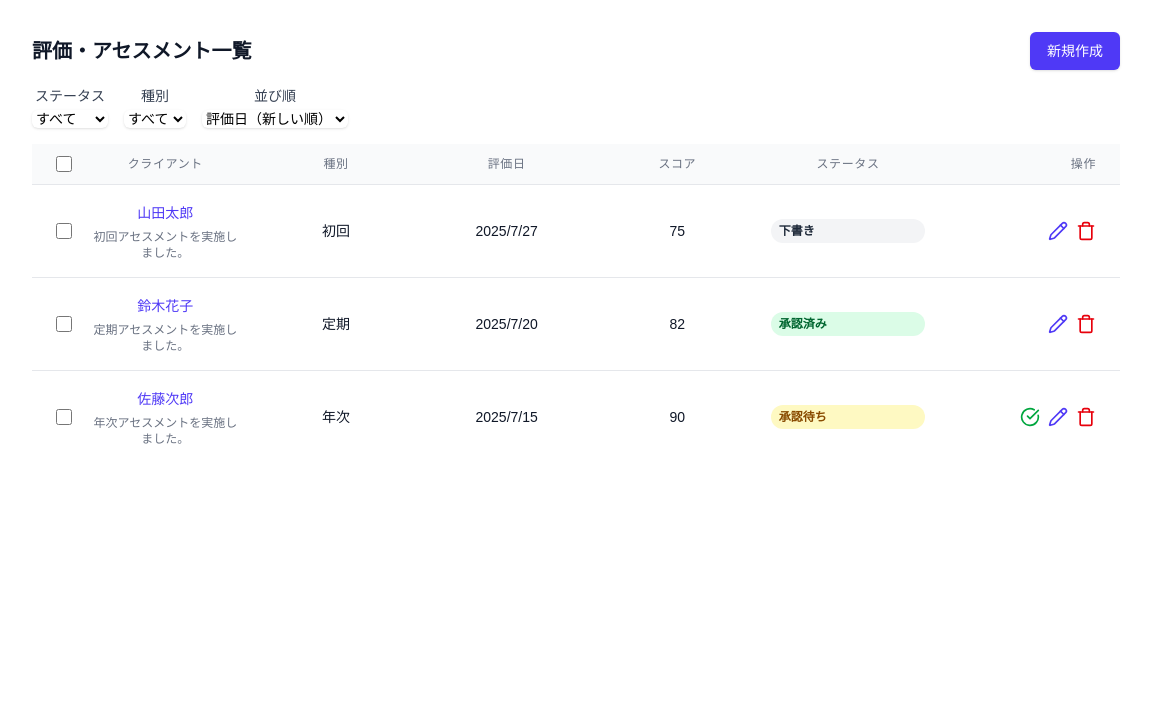
Test case: AssessmentList › アクション › 削除ボタンクリックで確認ダイアログが表示される
Click the button "削除" in the row of "下書き": {"x": 1086, "y": 231} [1076,221,1096,241]
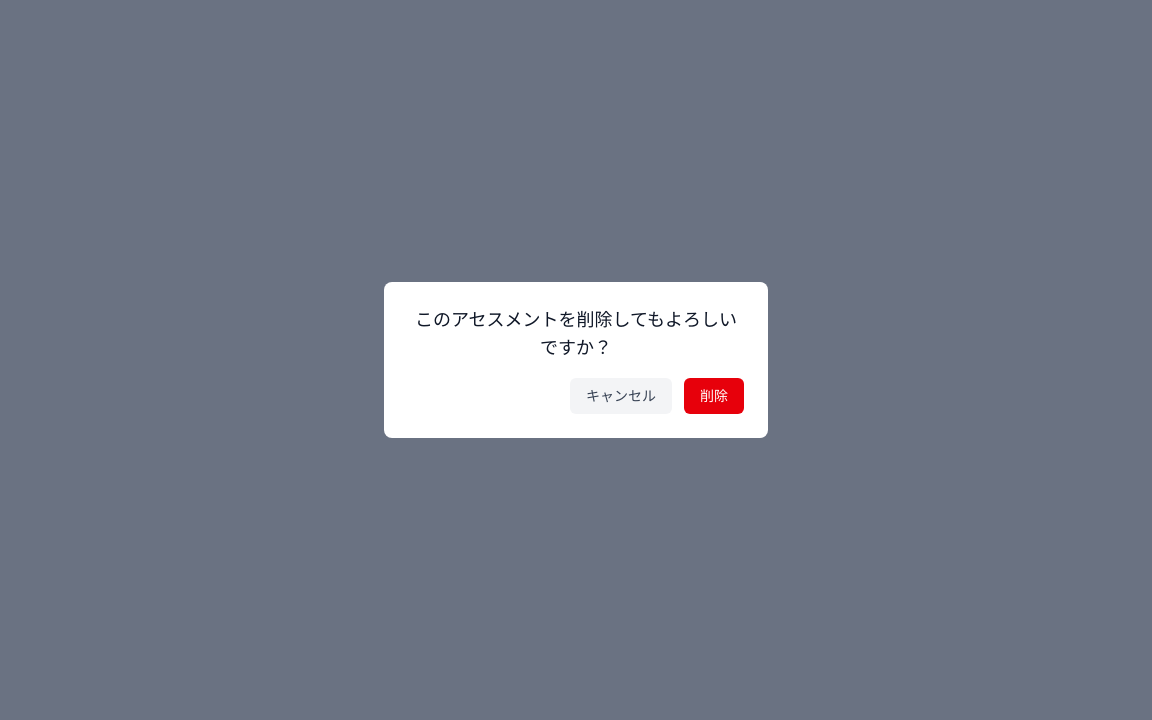
Expected: the heading "このアセスメントを削除してもよろしいですか？" is shown, [408,306,744,362]
